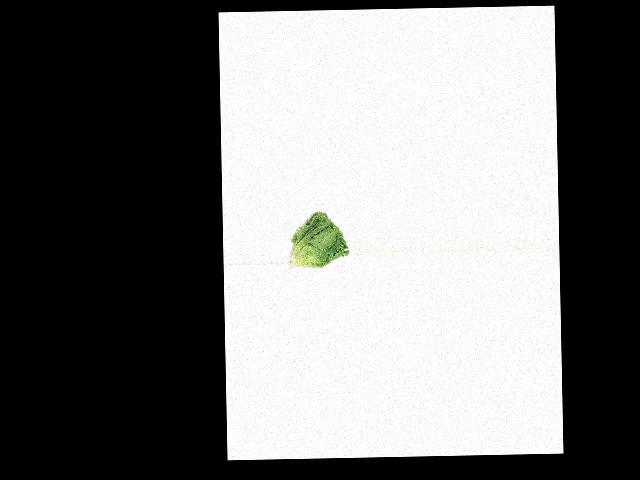lettuce: (286, 206, 349, 273)
